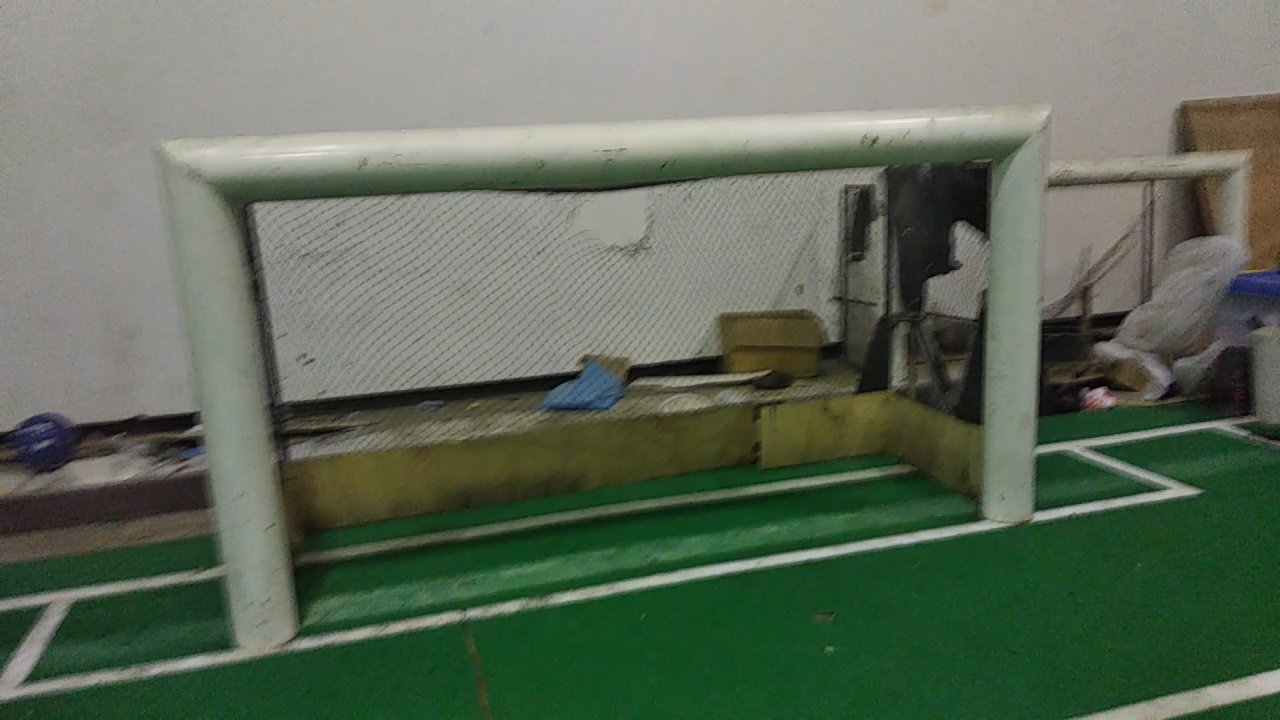gawang: (132, 99, 1059, 668)
